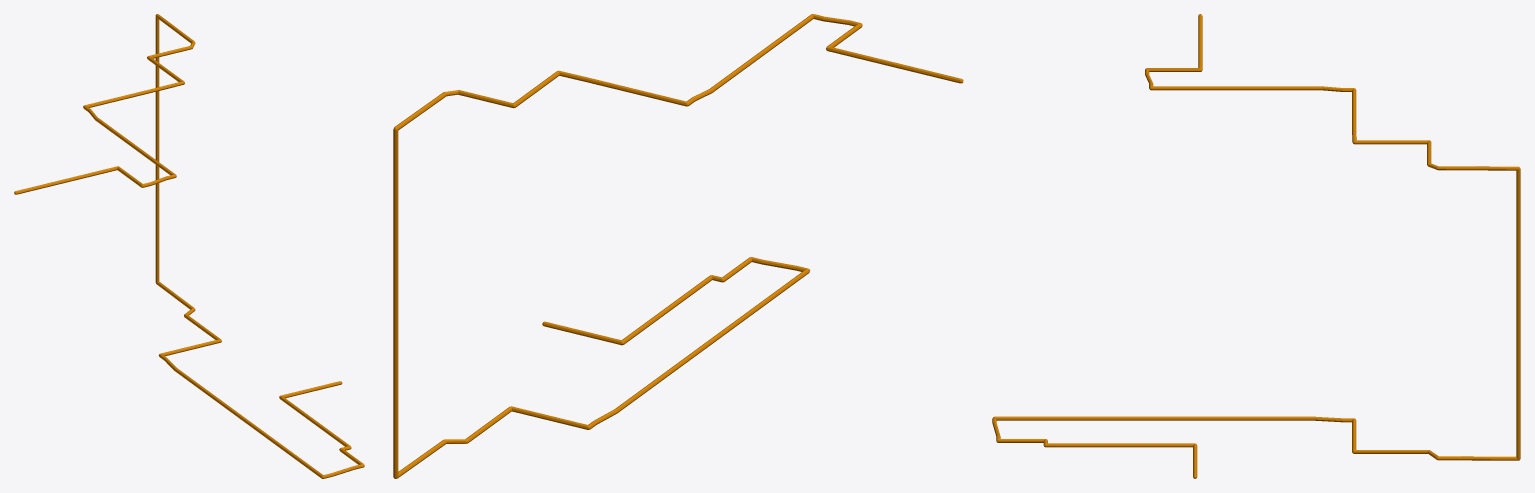
3 views of the same model, side by side, from view 1: azimuth 30°, elevation 25°; view 2: azimuth 150°, elevation 25°; view 3: azimuth 270°, elevation 25° (orthographic). The views are drawn at different scales.
Bounding box in the file's own units: 1915 × 1520 × 2475.
